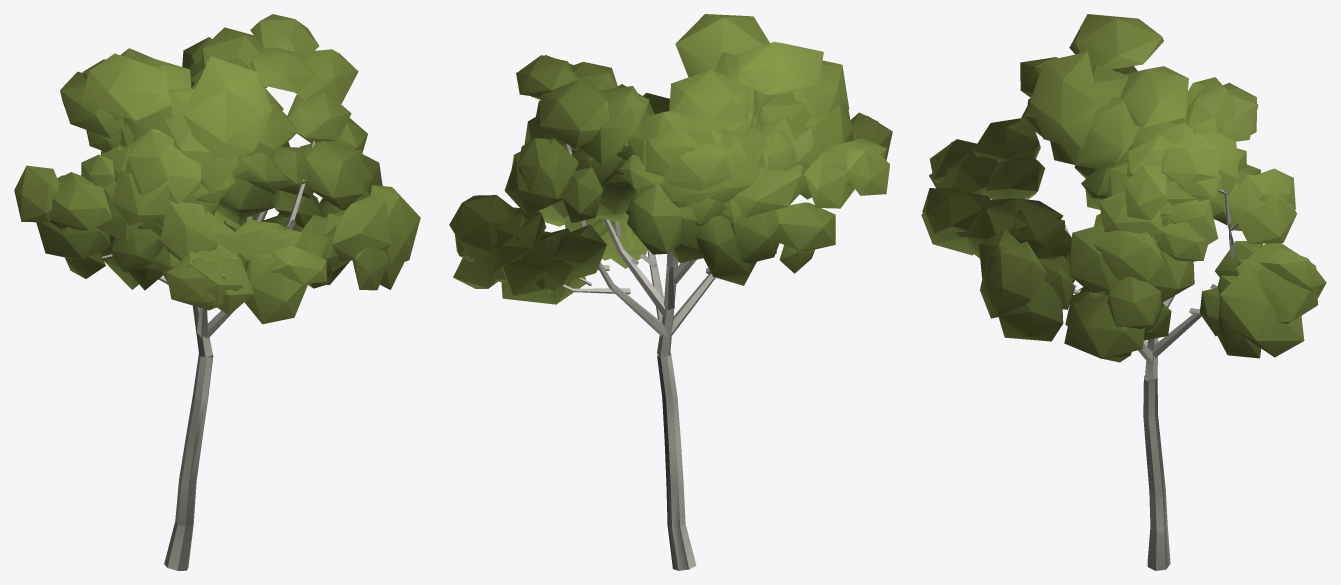
The model's file is tree_birch.glb.
3 views of the same model, side by side, from view 1: azimuth 30°, elevation 25°; view 2: azimuth 150°, elevation 25°; view 3: azimuth 270°, elevation 25° (orthographic). The views are drawn at different scales.
Visible parts, largest first — view 1: tree_birch; view 2: tree_birch; view 3: tree_birch.
Part boxes in pixels (bbox=[...]): tree_birch: bbox=[14, 14, 420, 570]; tree_birch: bbox=[449, 14, 892, 570]; tree_birch: bbox=[921, 14, 1326, 570].
Bounding box in the file's own units: 5.98 × 8.26 × 5.89.
